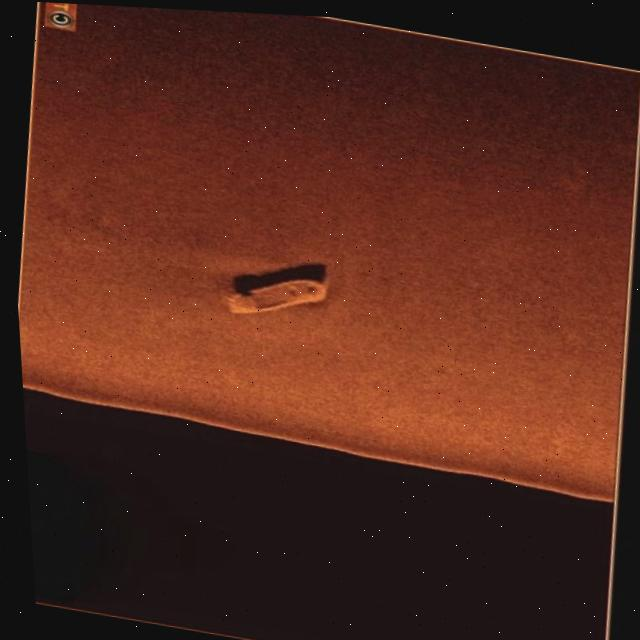shipwreck: (214, 256, 336, 330)
